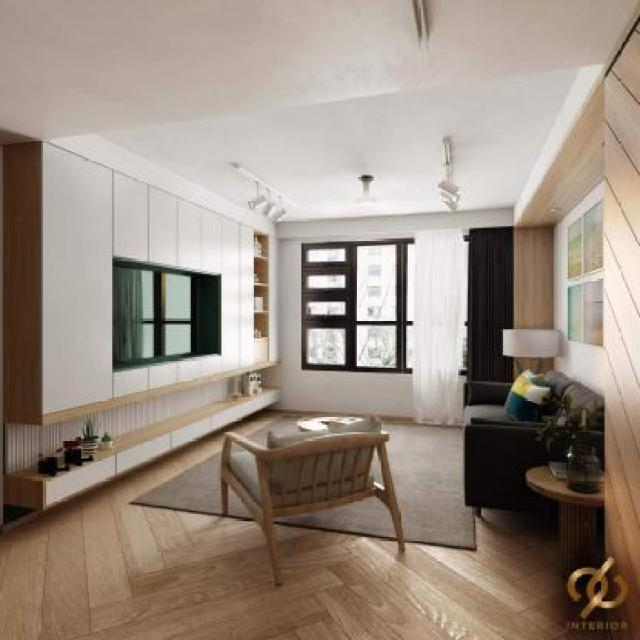Floor: (0, 412, 613, 640), (379, 419, 418, 424)
